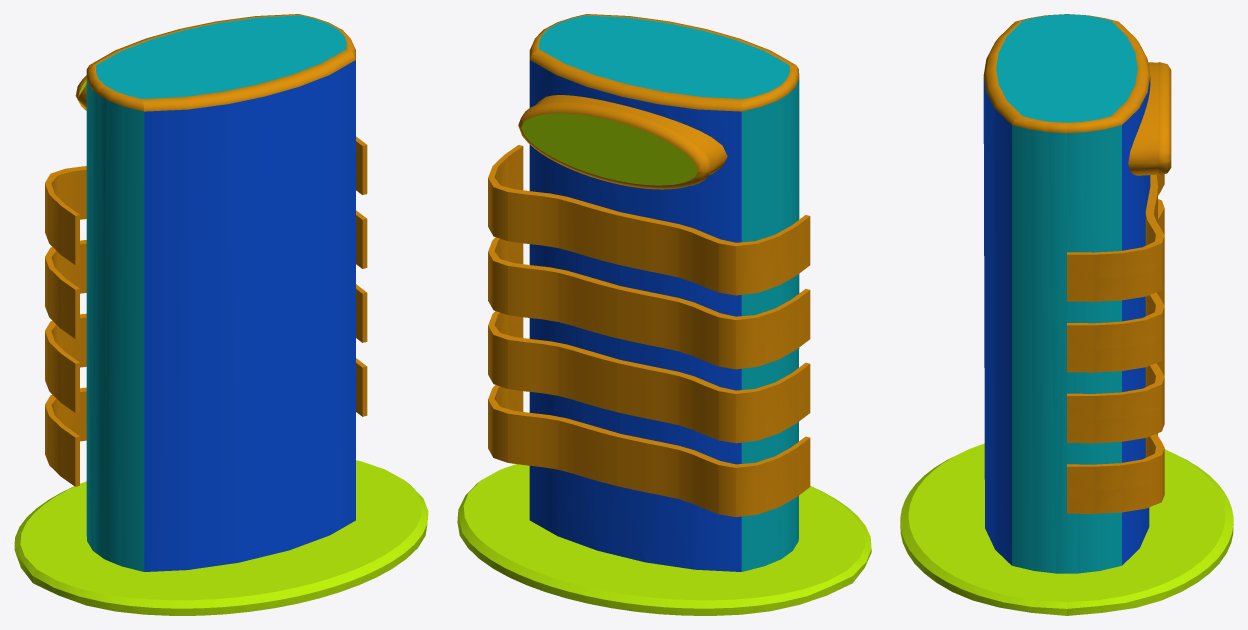
File: pilar.glb
3 renders of one model, left to right at view 1: azimuth 30°, elevation 25°; view 2: azimuth 150°, elevation 25°; view 3: azimuth 270°, elevation 25°, orthographic. The views are drawn at different scales.
Visible parts, largest first — view 1: pointer; view 2: pointer; view 3: pointer.
Boxes of the visible parts, x1=… form: pointer: x1=14, y1=14, x2=428, y2=615; pointer: x1=457, y1=14, x2=871, y2=615; pointer: x1=900, y1=14, x2=1233, y2=615.
Size of the model in its own units: 0.8186 by 0.9976 by 0.6554.
